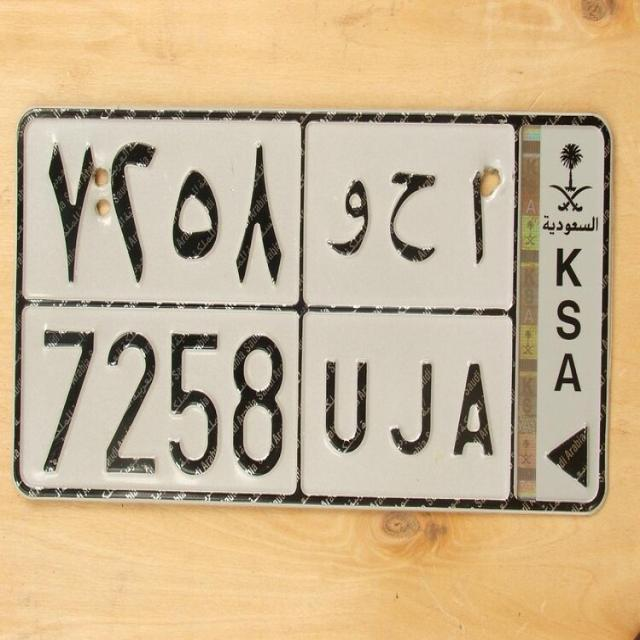license_plate: (14, 294, 520, 509)
